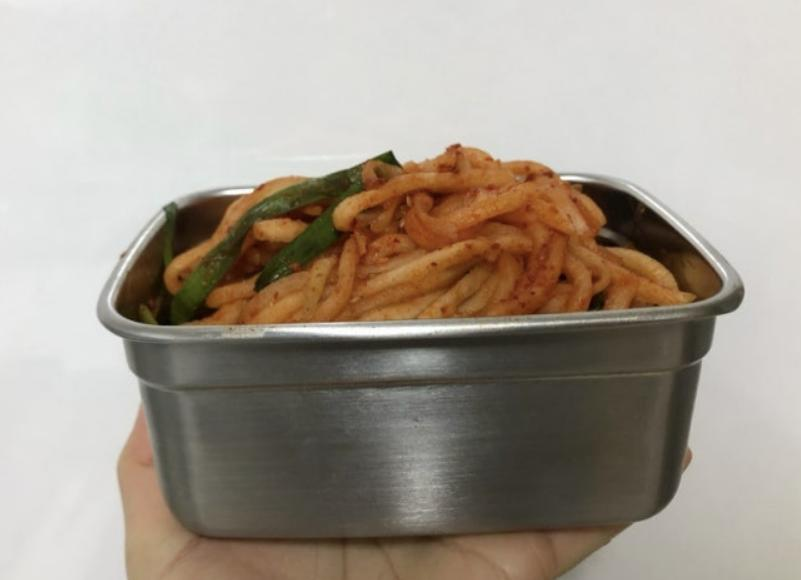Lunch Box: (98, 145, 743, 538)
